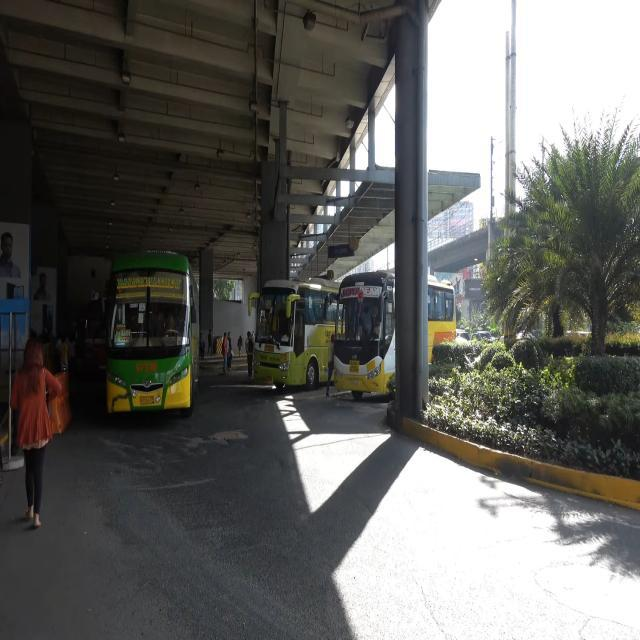bus: (106, 250, 202, 416), (338, 266, 461, 394), (254, 276, 346, 390)
